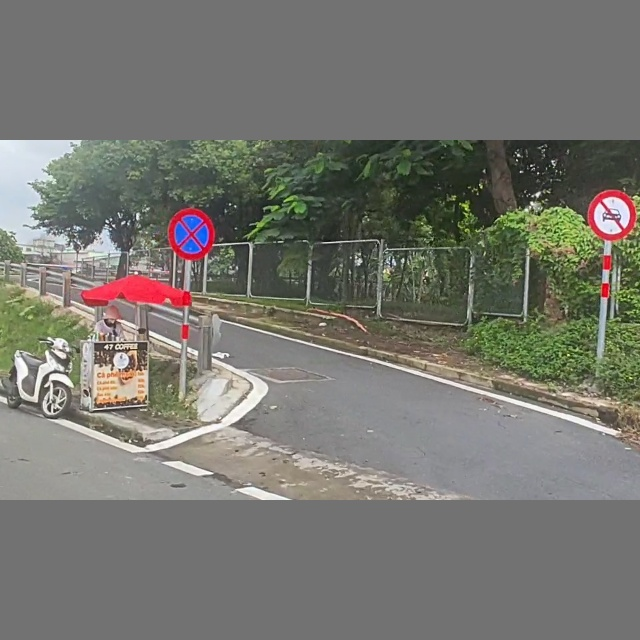P.103a: (588, 189, 637, 243)
P.130: (166, 207, 216, 261)
